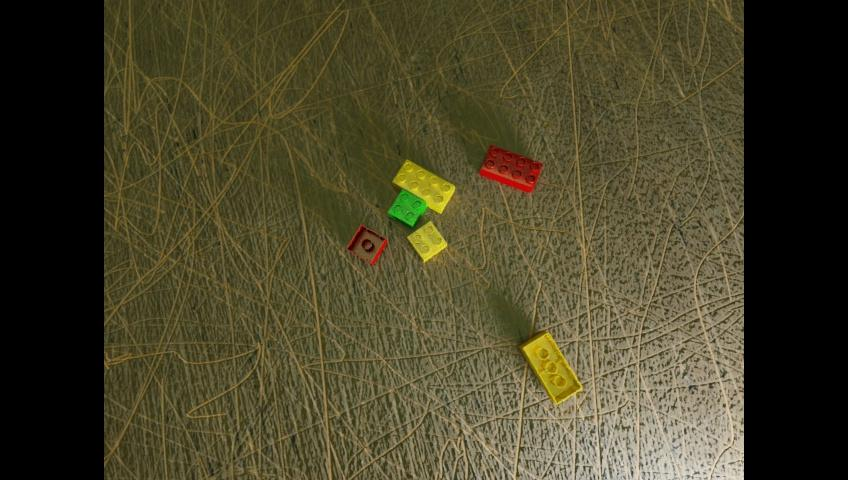2x2_green: (389, 188, 425, 229)
2x2_red: (347, 224, 386, 264)
2x2_yellow: (407, 220, 446, 262)
4x2_red: (478, 144, 541, 192)
4x2_yellow: (518, 330, 581, 404), (392, 158, 454, 213)
